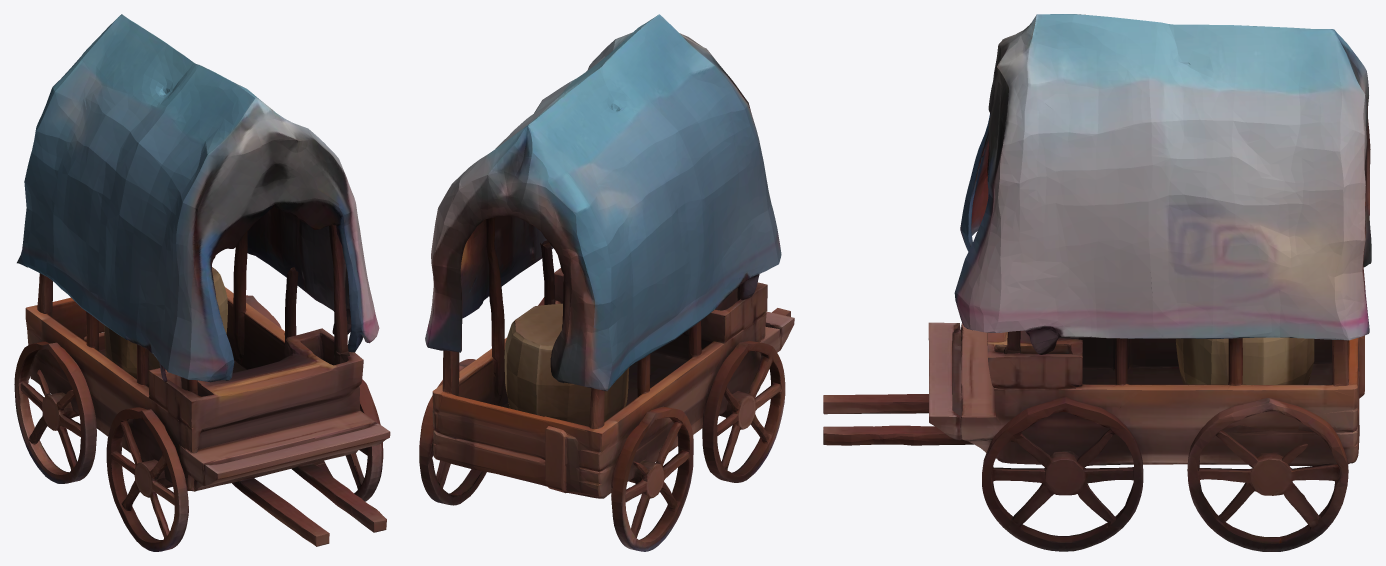
The model's file is partflow_t03.glb.
3 renders of one model, left to right at view 1: azimuth 30°, elevation 25°; view 2: azimuth 150°, elevation 25°; view 3: azimuth 270°, elevation 25°, orthographic. The views are drawn at different scales.
Parts seen in each view (by area): view 1: geometry_0; view 2: geometry_0; view 3: geometry_0.
Boxes of the visible parts, bbox=[...] form: geometry_0: bbox=[14, 14, 390, 551]; geometry_0: bbox=[419, 14, 794, 551]; geometry_0: bbox=[823, 14, 1371, 551].
Bounding box in the file's own units: 0.9807 × 1.93 × 1.99.
Materials: 1 (1 with a texture image).
